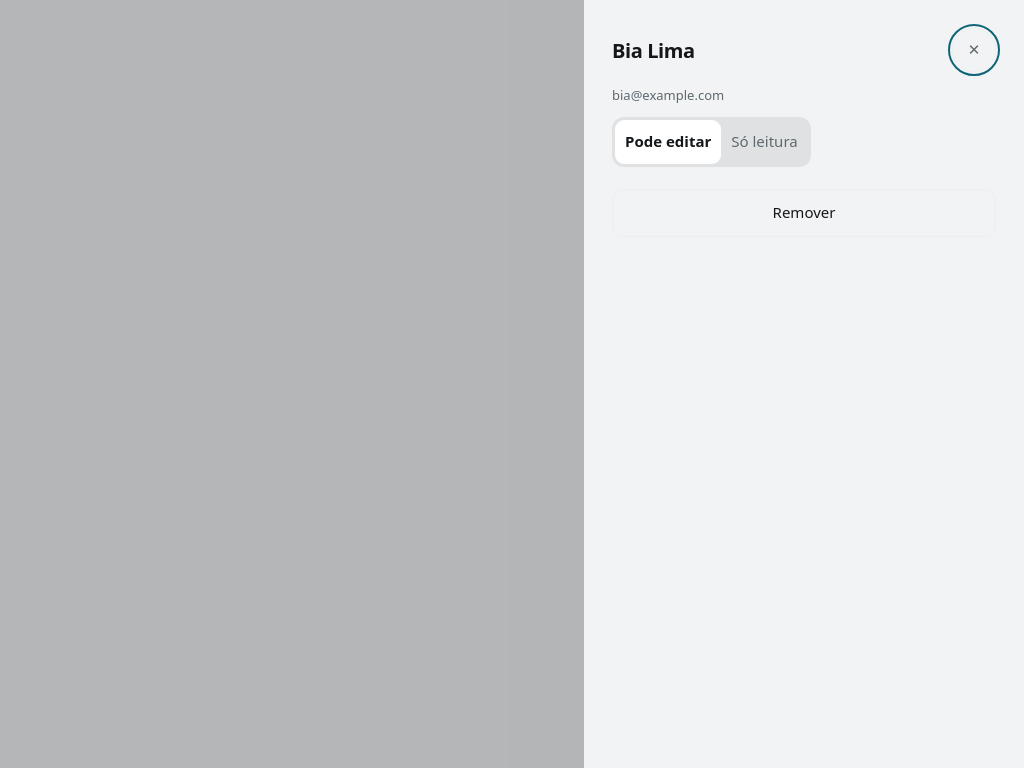
MemberSheet: the owner looking at someone else › shows the error of the API and stays open
Click the button "Só leitura" at x=764, y=142, box [721, 120, 808, 164]
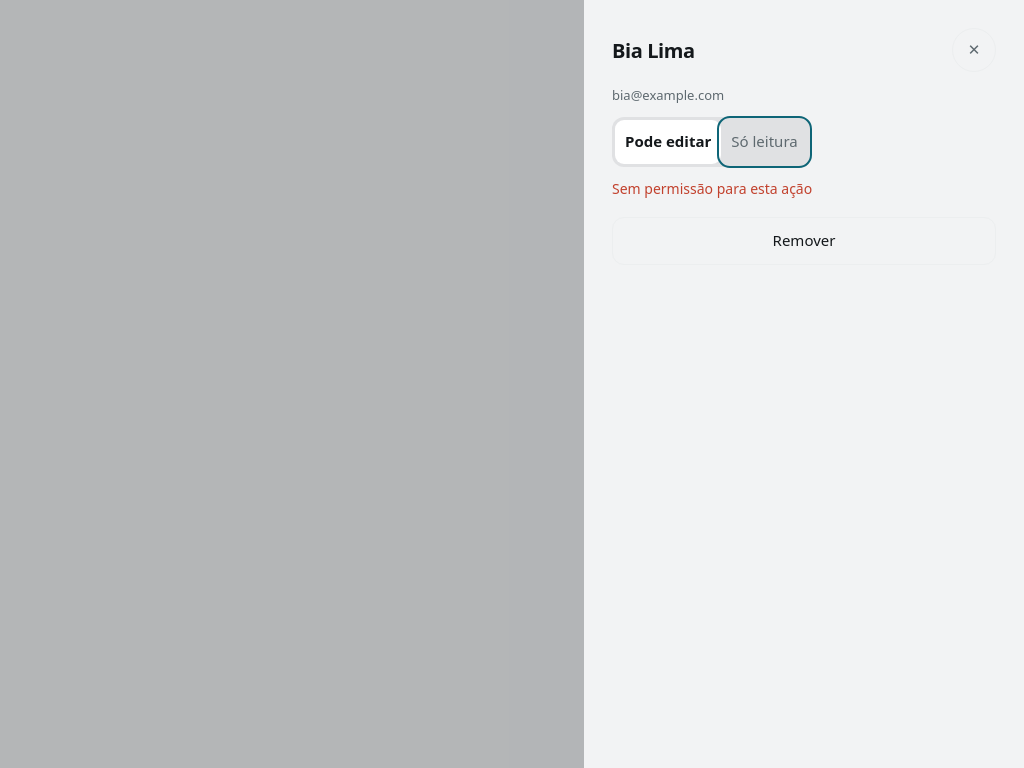
Now the text "Sem permissão para esta ação" is shown, box [612, 179, 812, 198]
